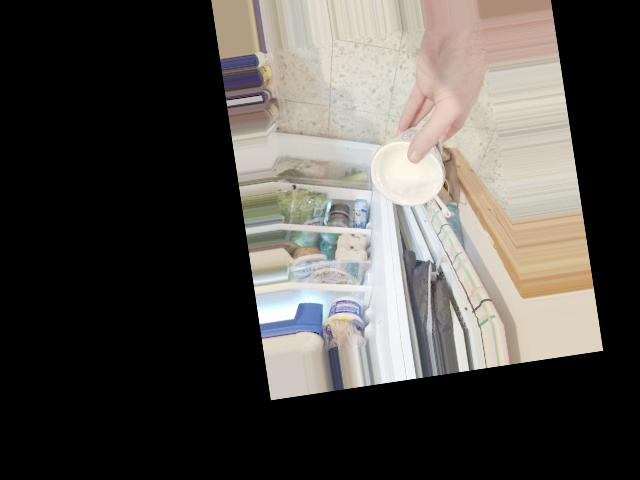cotage: (371, 121, 450, 215)
